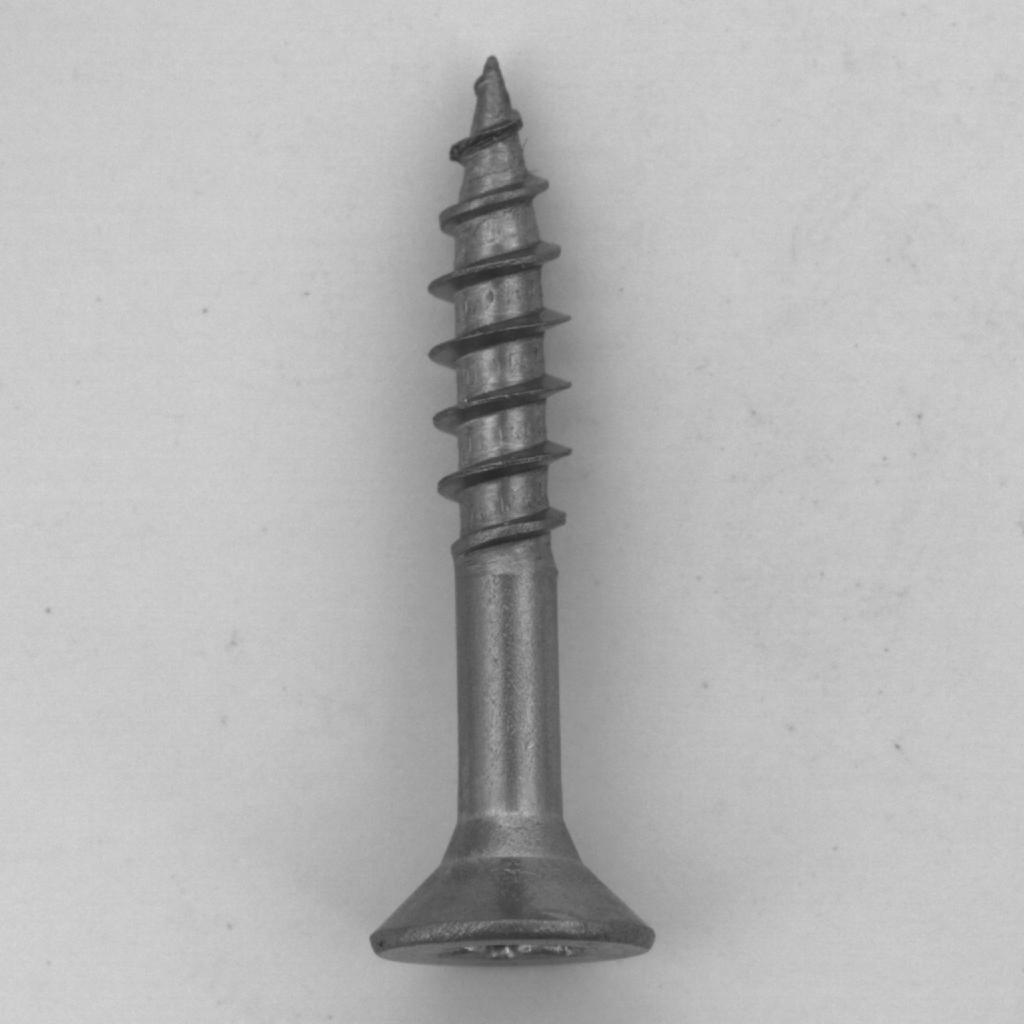good: (347, 47, 668, 983)
